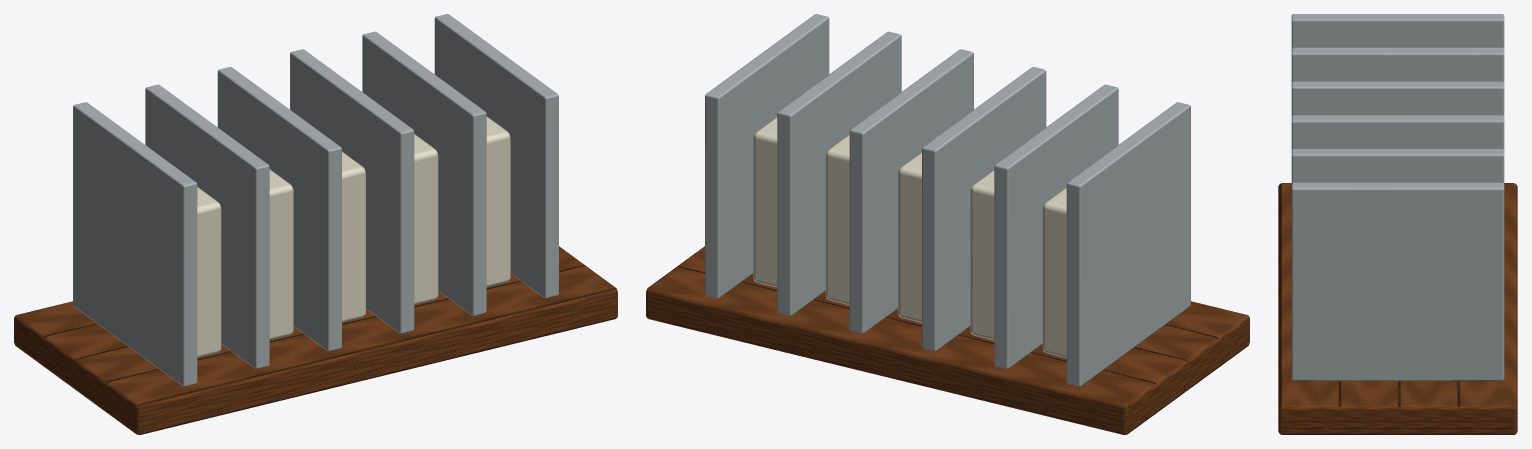
Rendered from survival-greenhouse-and-irrigation-seed-envelope-rack-1bd654d2__21330.glb.
3 views of the same model, side by side, from view 1: azimuth 30°, elevation 25°; view 2: azimuth 150°, elevation 25°; view 3: azimuth 270°, elevation 25° (orthographic). The views are drawn at different scales.
Visible parts, largest first — view 1: seed-envelope-rack; view 2: seed-envelope-rack; view 3: seed-envelope-rack.
Boxes of the visible parts, box(x1,y1,x2,y2) form: seed-envelope-rack: box(14, 14, 617, 434); seed-envelope-rack: box(646, 14, 1249, 434); seed-envelope-rack: box(1278, 14, 1517, 434).
Bounding box in the file's own units: 0.4 × 0.185 × 0.18.
Materials: 3 (1 with a texture image).
